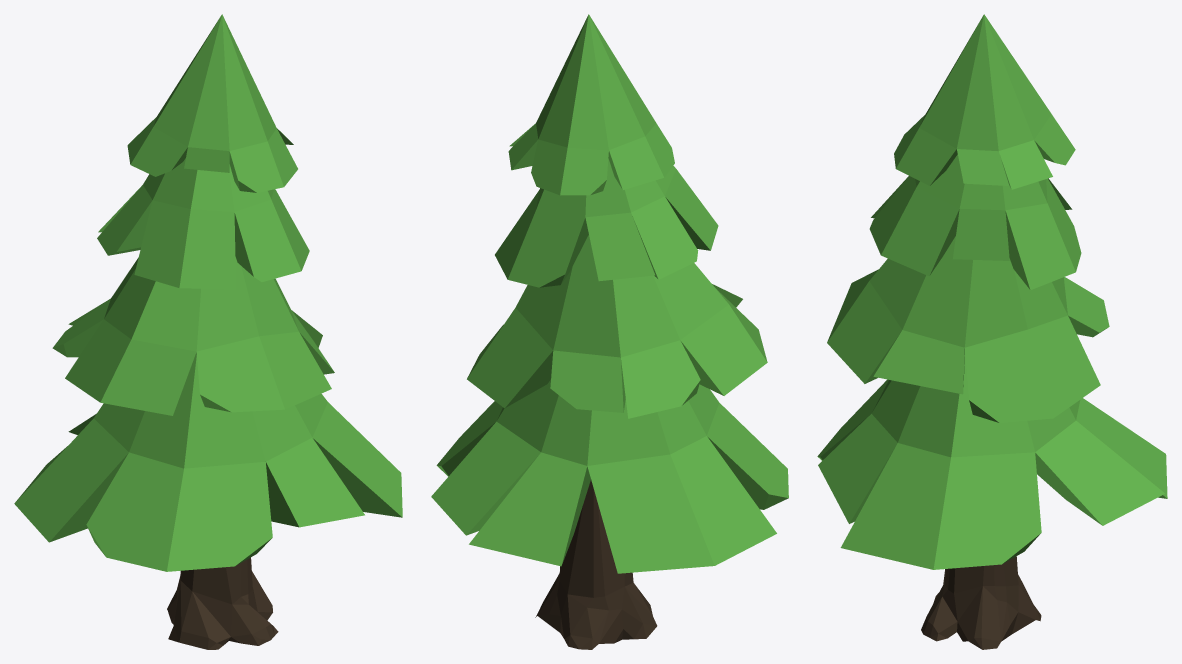
The model's file is Spruce.fbx.
The picture shows the model from 3 angles, left to right: view 1: azimuth 30°, elevation 25°; view 2: azimuth 150°, elevation 25°; view 3: azimuth 270°, elevation 25°; orthographic projection.
Visible parts, largest first — view 1: Leaves, Trunk; view 2: Leaves, Trunk; view 3: Leaves, Trunk.
Part boxes in pixels (x1=…): Leaves: x1=14, y1=14, x2=402, y2=571; Trunk: x1=167, y1=557, x2=278, y2=649; Leaves: x1=431, y1=14, x2=788, y2=573; Trunk: x1=535, y1=479, x2=657, y2=649; Leaves: x1=817, y1=14, x2=1167, y2=569; Trunk: x1=921, y1=556, x2=1041, y2=649.
Bounding box in the file's own units: 517 × 467 × 902.
